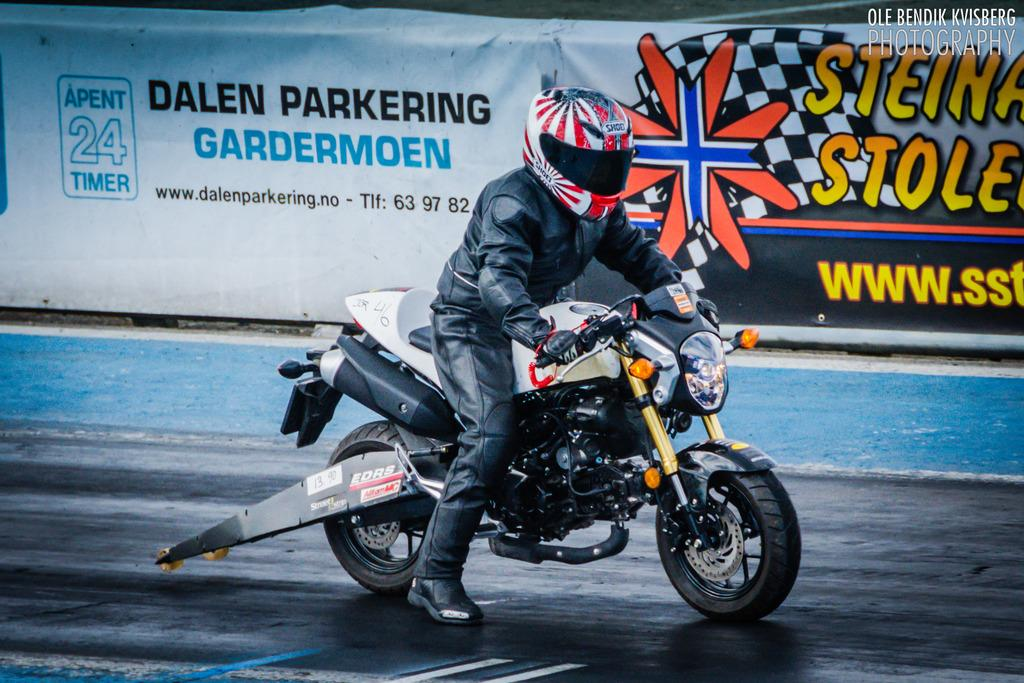helmet: (522, 86, 634, 222)
